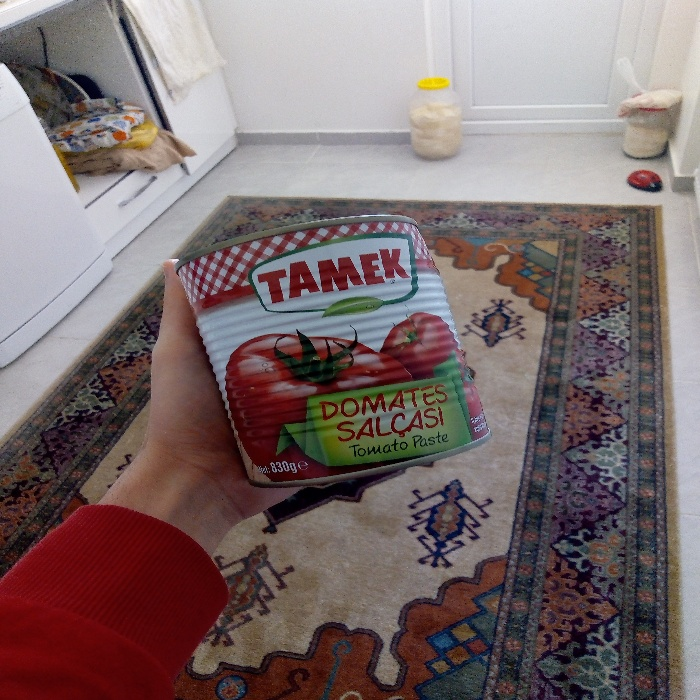salca: (161, 199, 515, 499)
